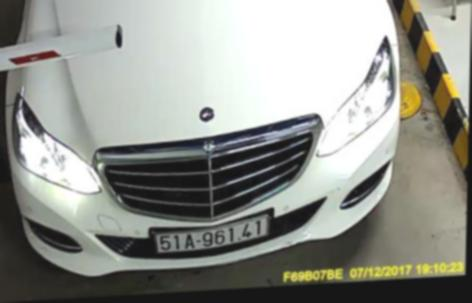License_Plate: (154, 220, 273, 256)
